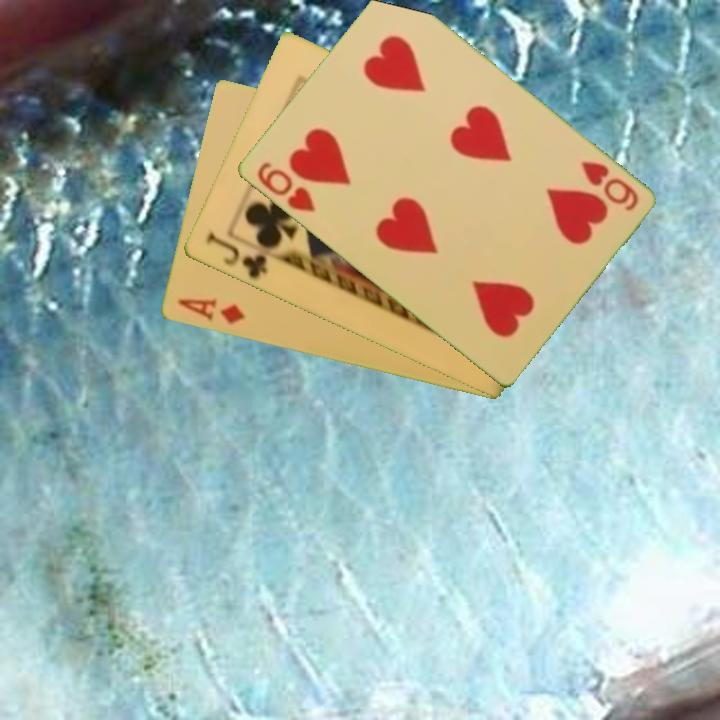6h: (253, 158, 318, 216), (577, 157, 641, 215)
Ad: (174, 294, 248, 327)
Jc: (202, 230, 270, 282)
